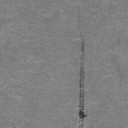slag inclusion: (78, 63, 87, 122), (80, 41, 84, 52), (80, 54, 84, 60), (80, 124, 84, 128)
